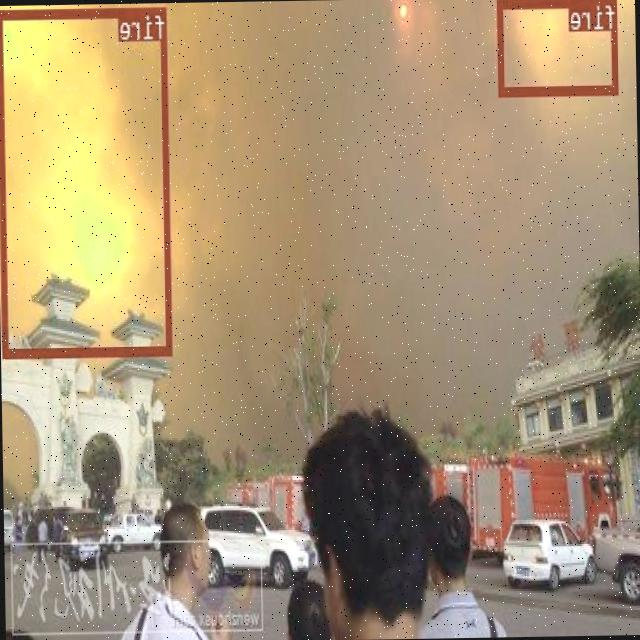fire: (0, 6, 173, 357), (497, 0, 618, 95)
